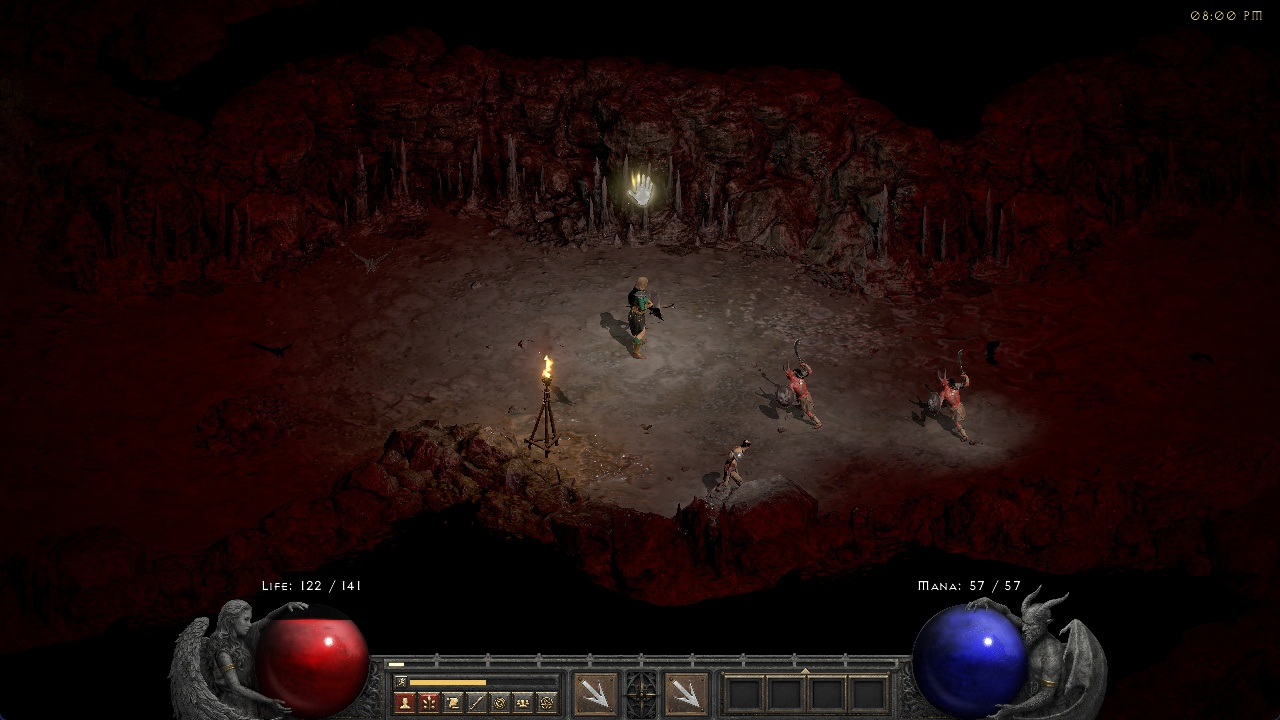fallen: (926, 348, 980, 441), (778, 336, 825, 431)
